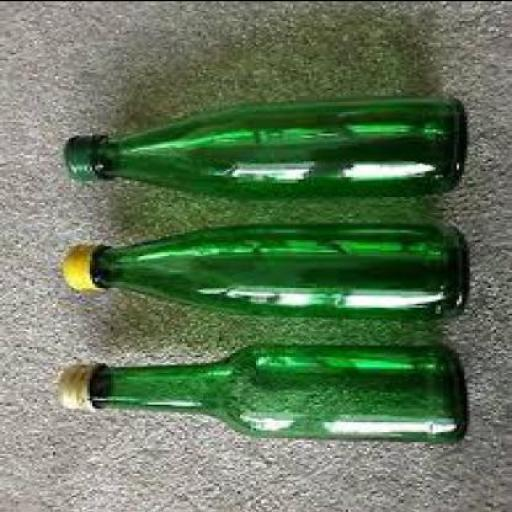glass: (96, 95, 464, 198), (90, 340, 464, 440), (95, 222, 467, 316)
metal: (58, 130, 103, 176), (61, 241, 98, 288), (55, 360, 90, 407)
